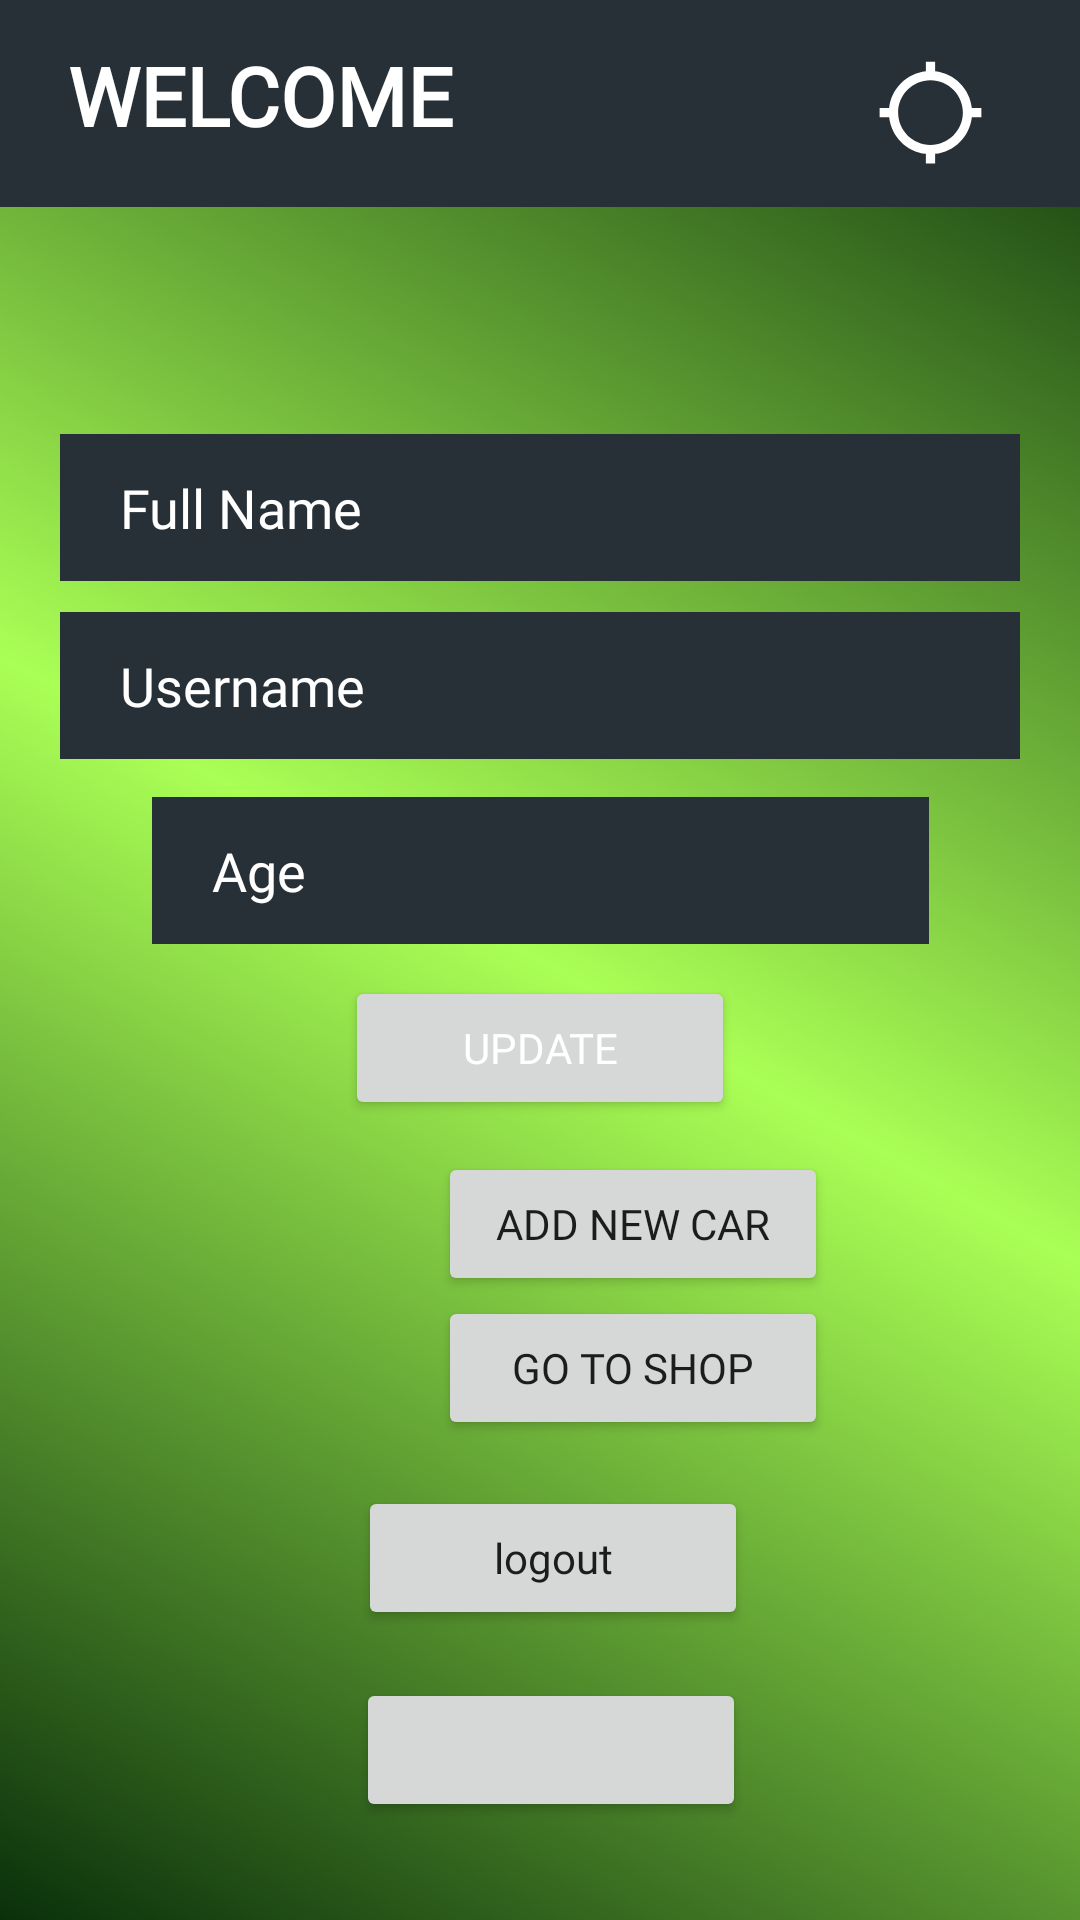

Icon bounding boxes for this 1080 x 1920 phone screenshot, format (x1, y1, x2, y2):
location: (879, 61, 982, 164)
